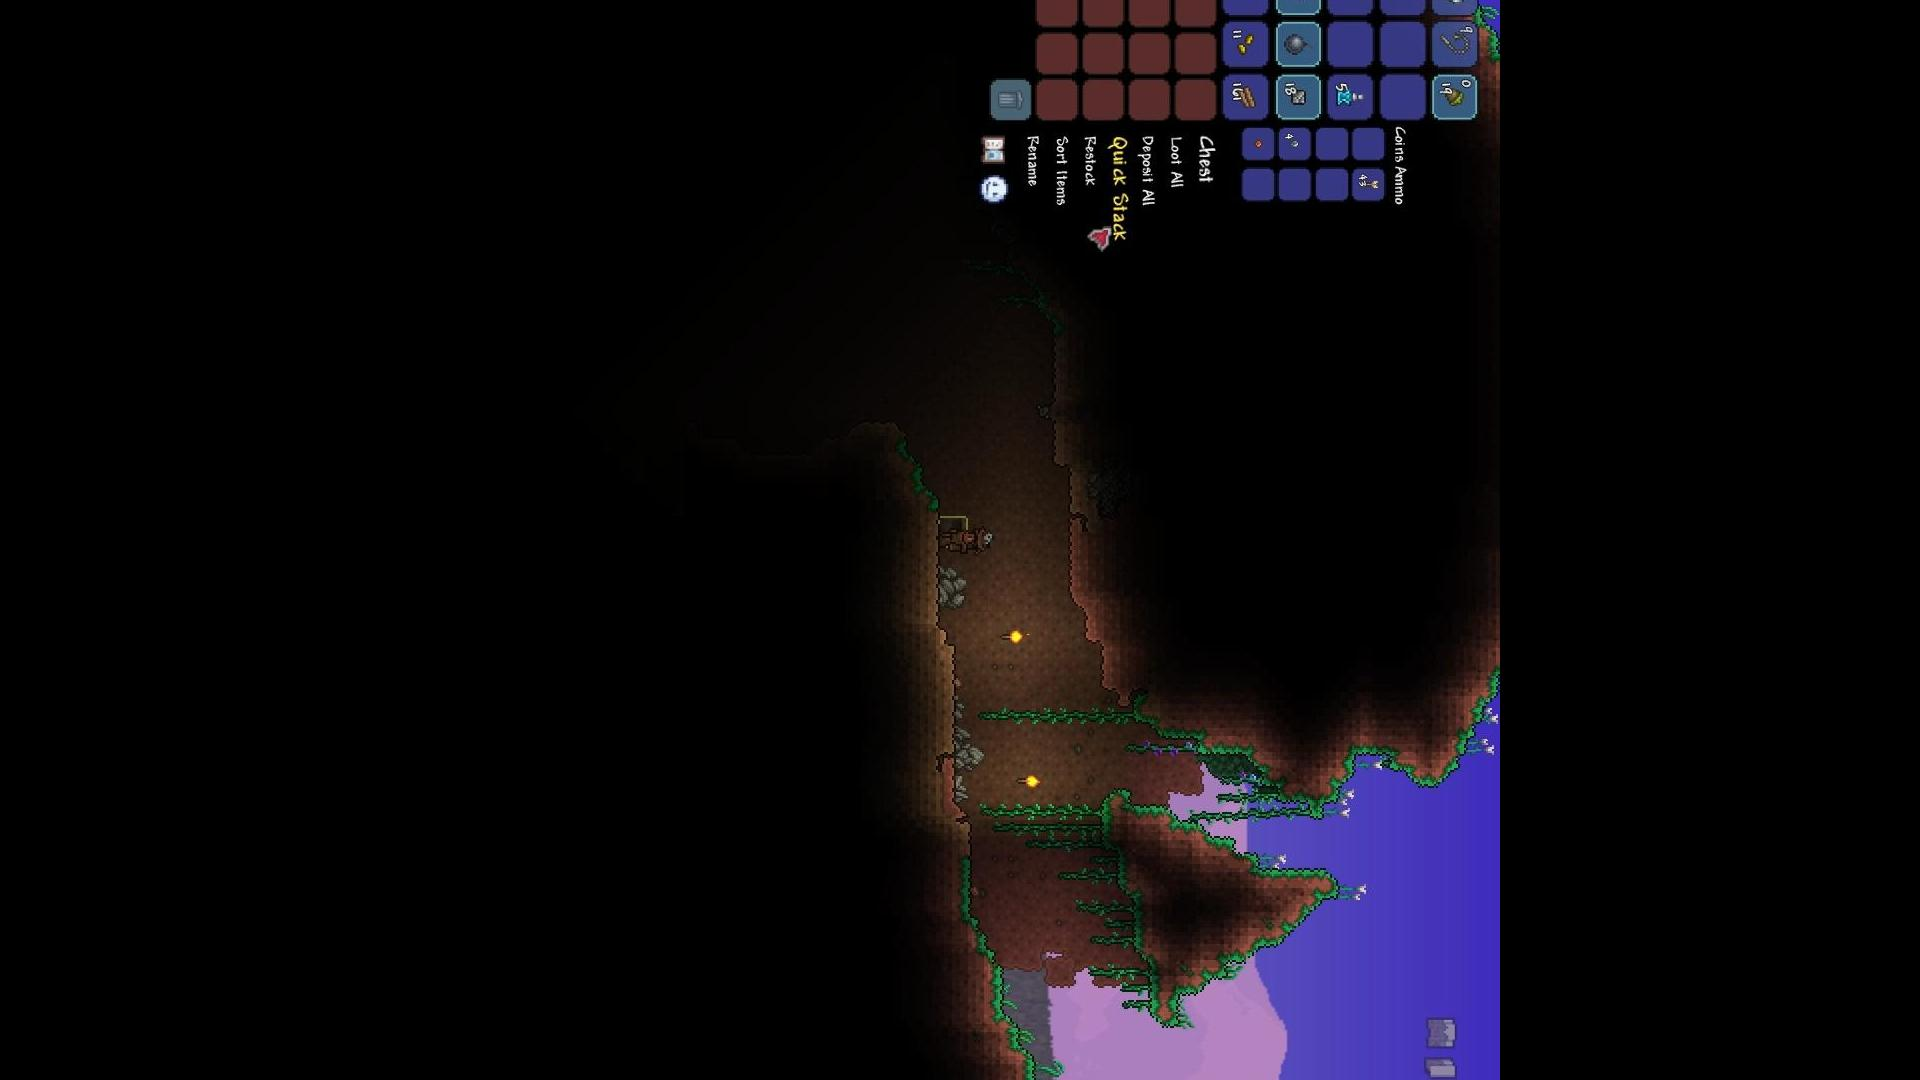bomb: (1286, 33, 1309, 55)
